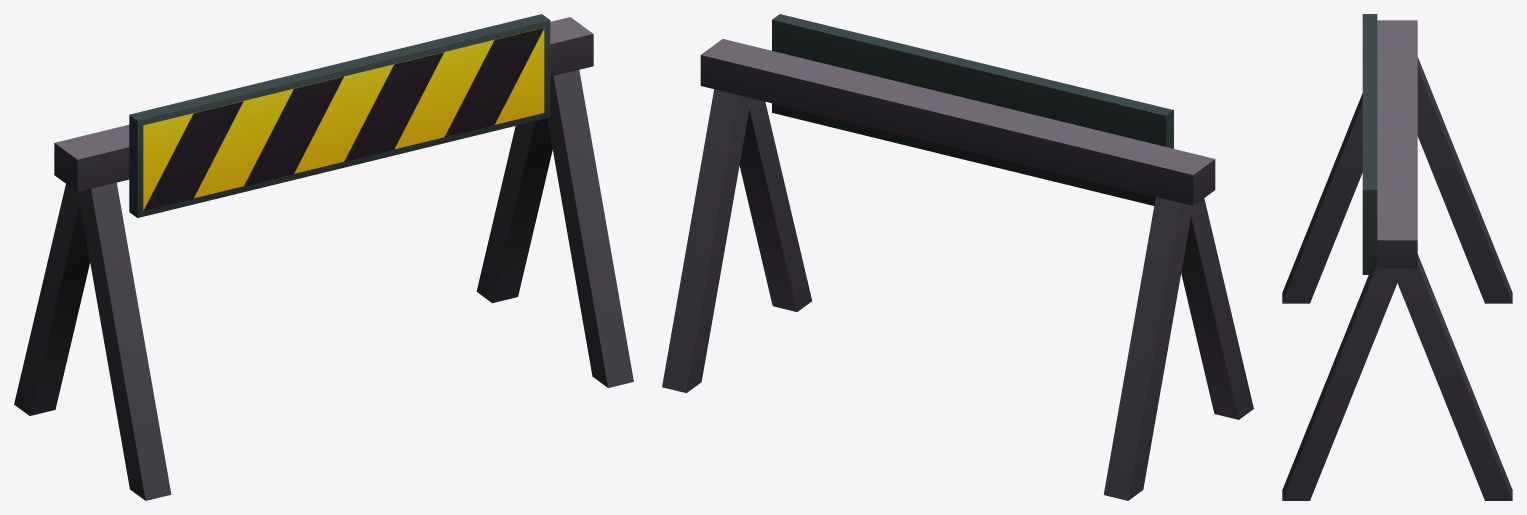
The model's file is Streetsign_3E.fbx.
The picture shows the model from 3 angles, left to right: view 1: azimuth 30°, elevation 25°; view 2: azimuth 150°, elevation 25°; view 3: azimuth 270°, elevation 25°; orthographic projection. The views are drawn at different scales.
Visible parts, largest first — view 1: Streetsign_3E; view 2: Streetsign_3E; view 3: Streetsign_3E.
Part boxes in pixels (<box>): Streetsign_3E: <box>14,14,633,500</box>; Streetsign_3E: <box>662,14,1253,500</box>; Streetsign_3E: <box>1282,14,1512,500</box>.
Size of the model in its own units: 178 by 111 by 78.91.
